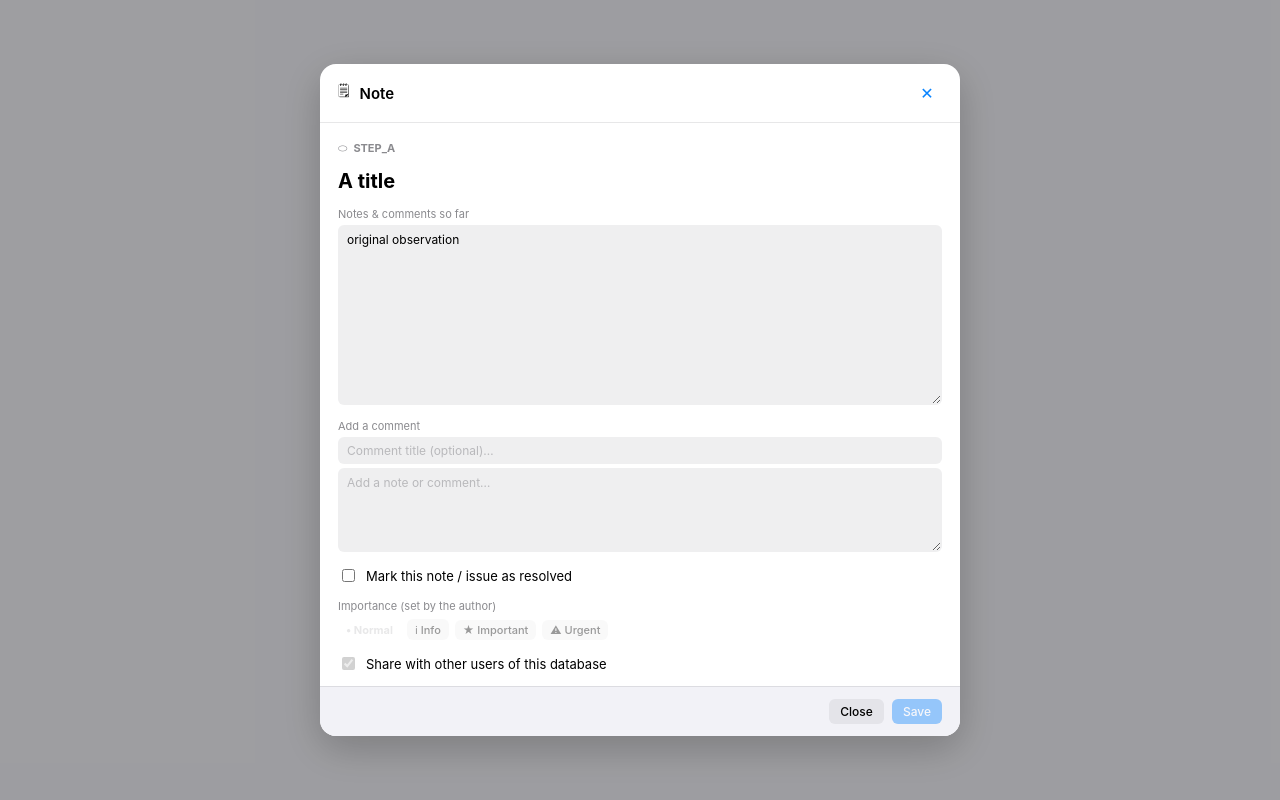
Test: NoteEditor — non-author › cannot delete or change importance, but can add a comment
Expected: the button "⚠ Urgent" is disabled, [542,620,608,640]
Expected: the button "Save" is disabled, [892,699,942,724]
Type "looks fixed to me" into the text box with placeholder "Add a note or comment…" at (640,510), box [338,468,942,552]
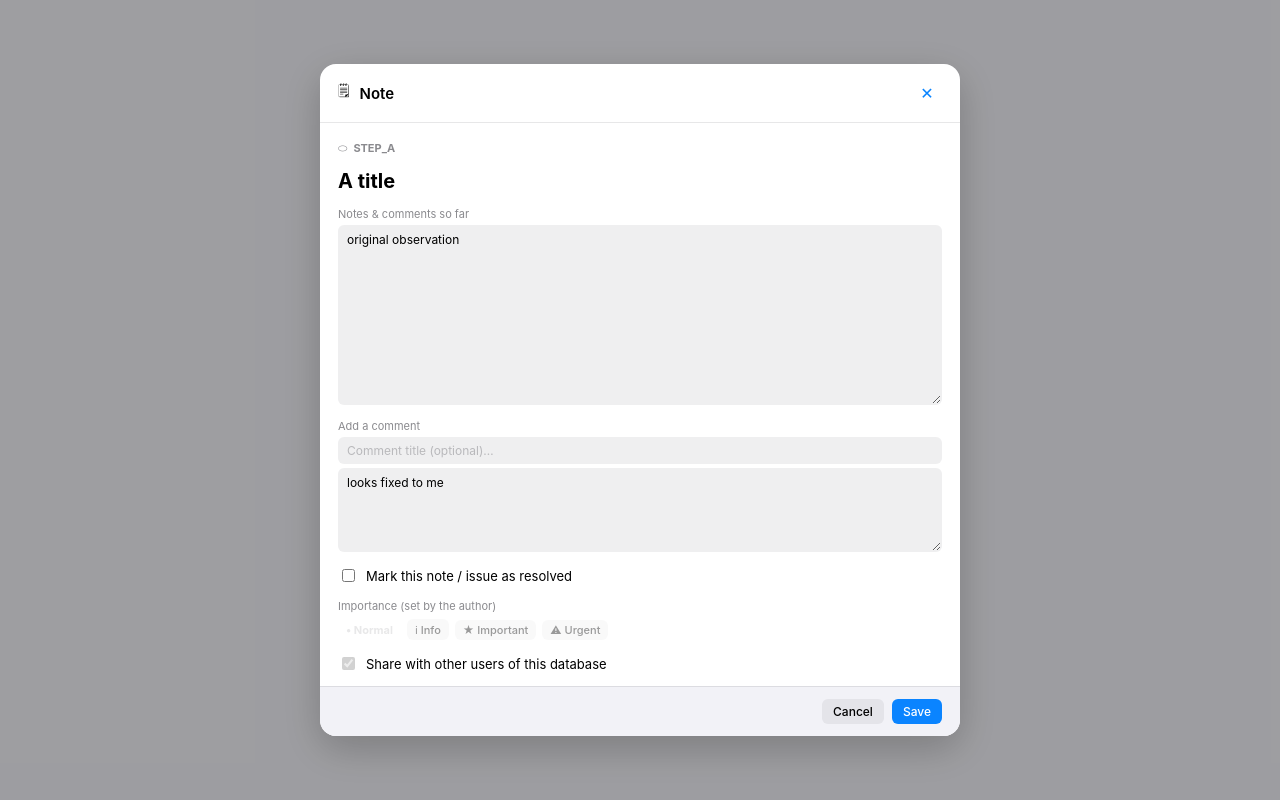
Expected: the button "Save" is enabled, [892,699,942,724]
